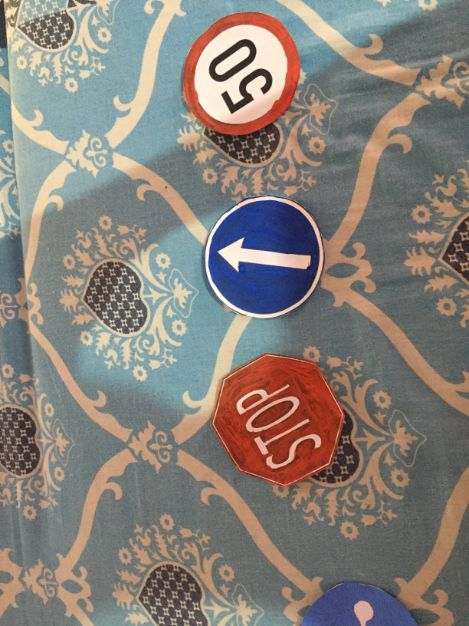go-stright: (203, 197, 329, 323)
speed-50: (179, 10, 306, 137)
stop: (213, 352, 348, 487)
